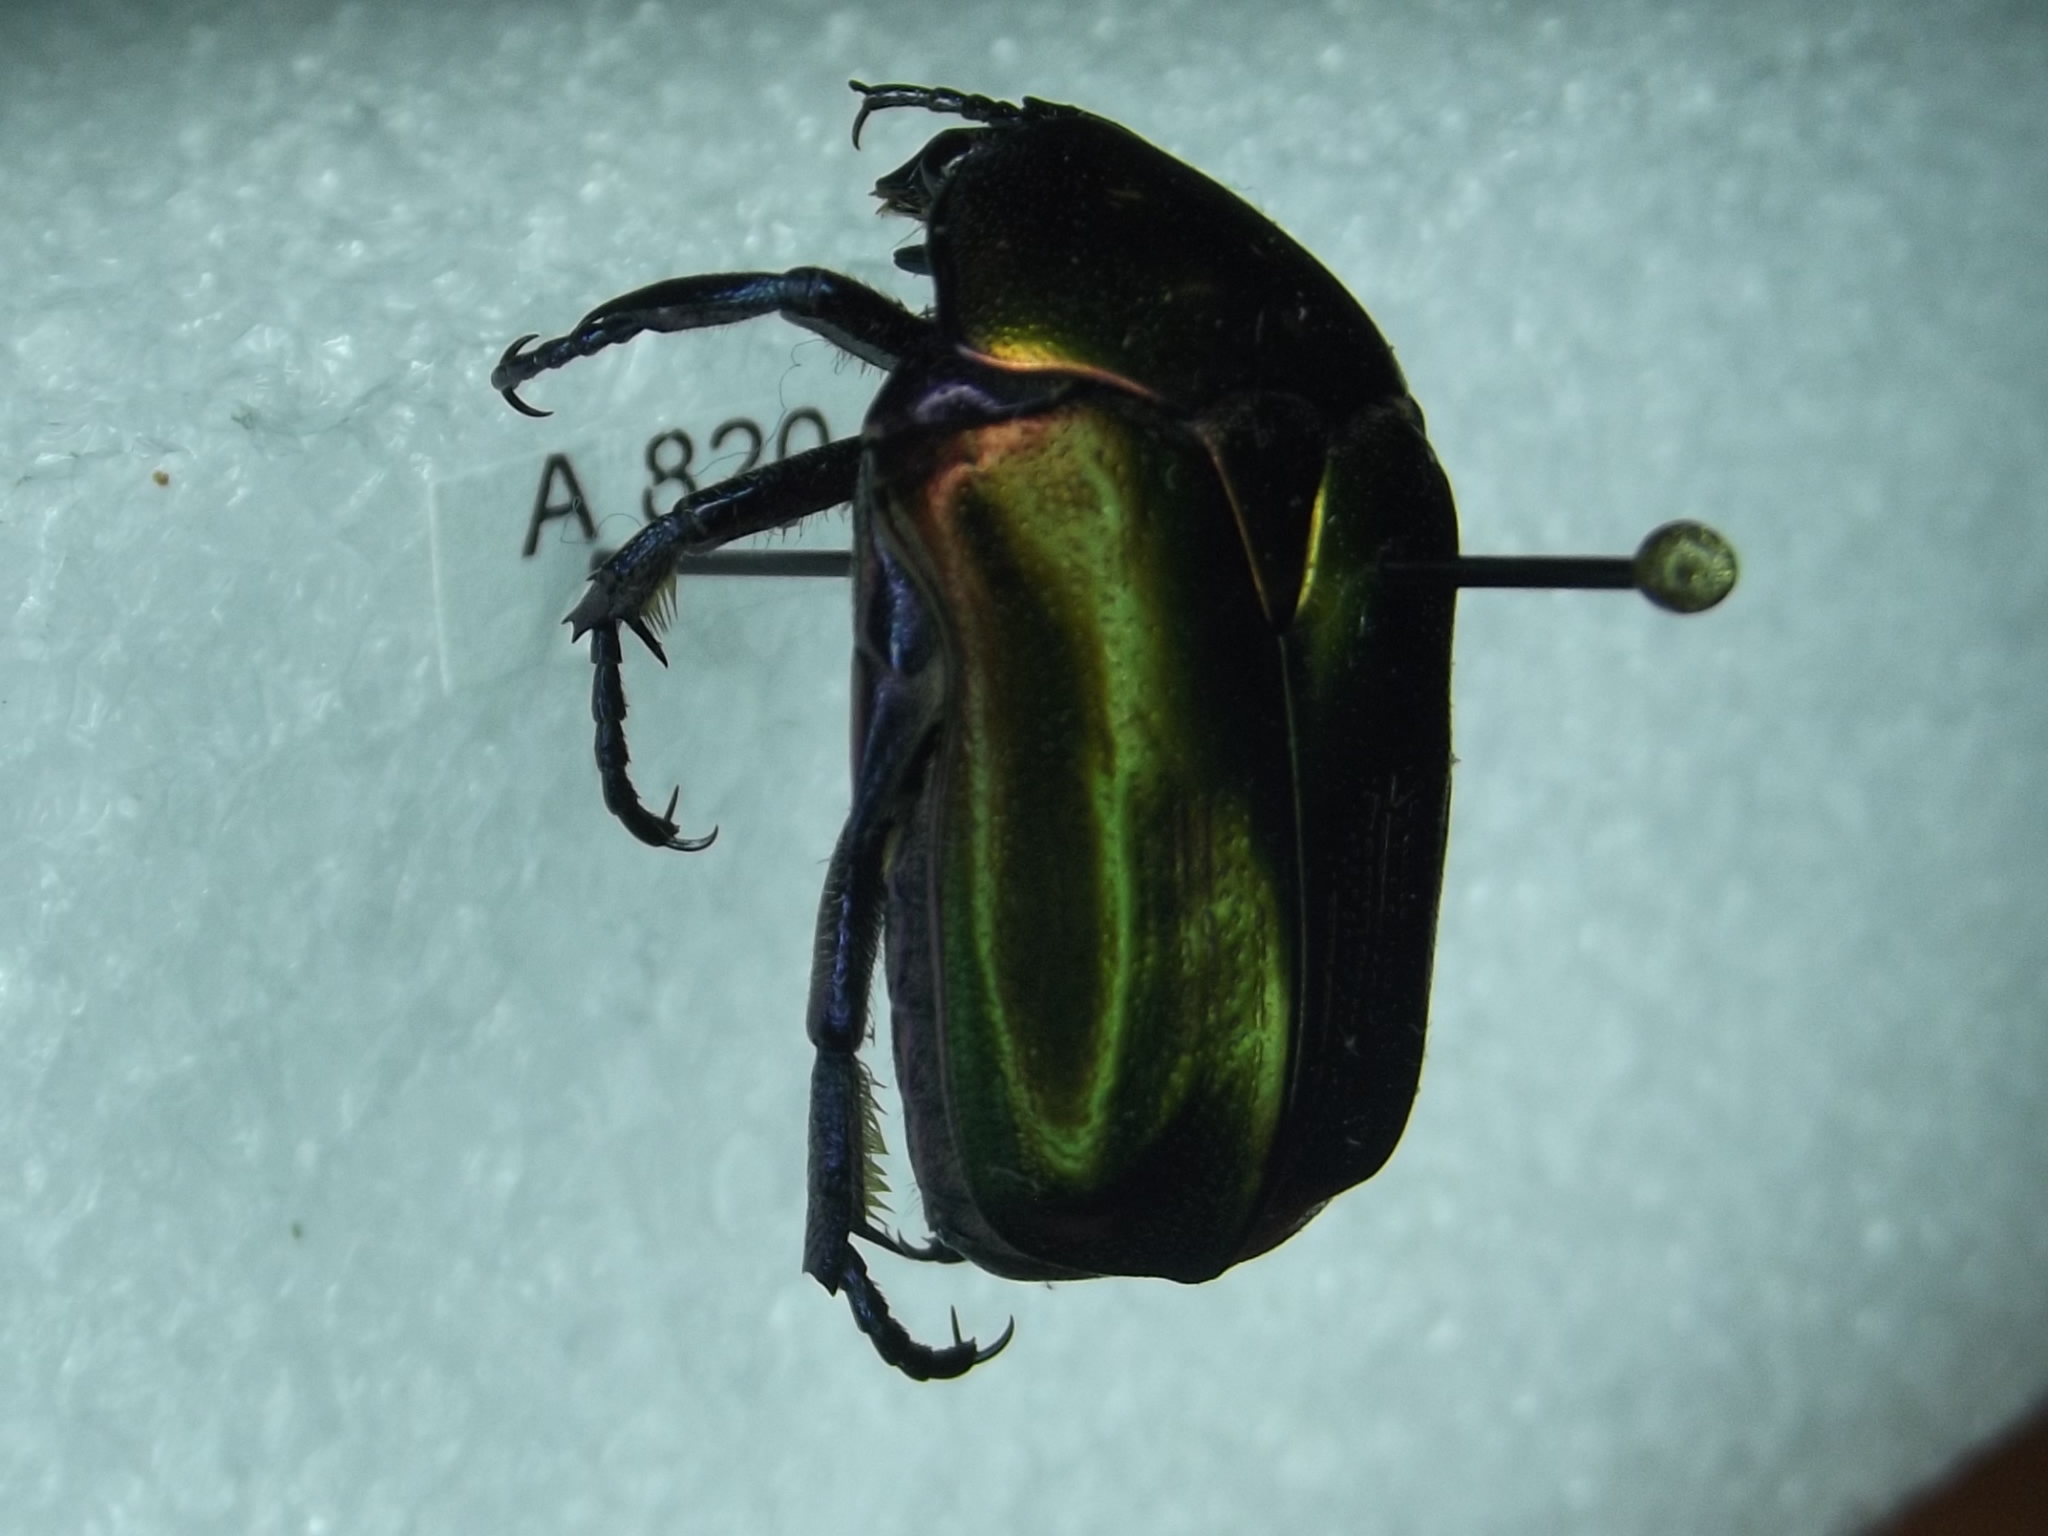Protaetia_cuprea_ignicollis: (481, 52, 1474, 1394)
